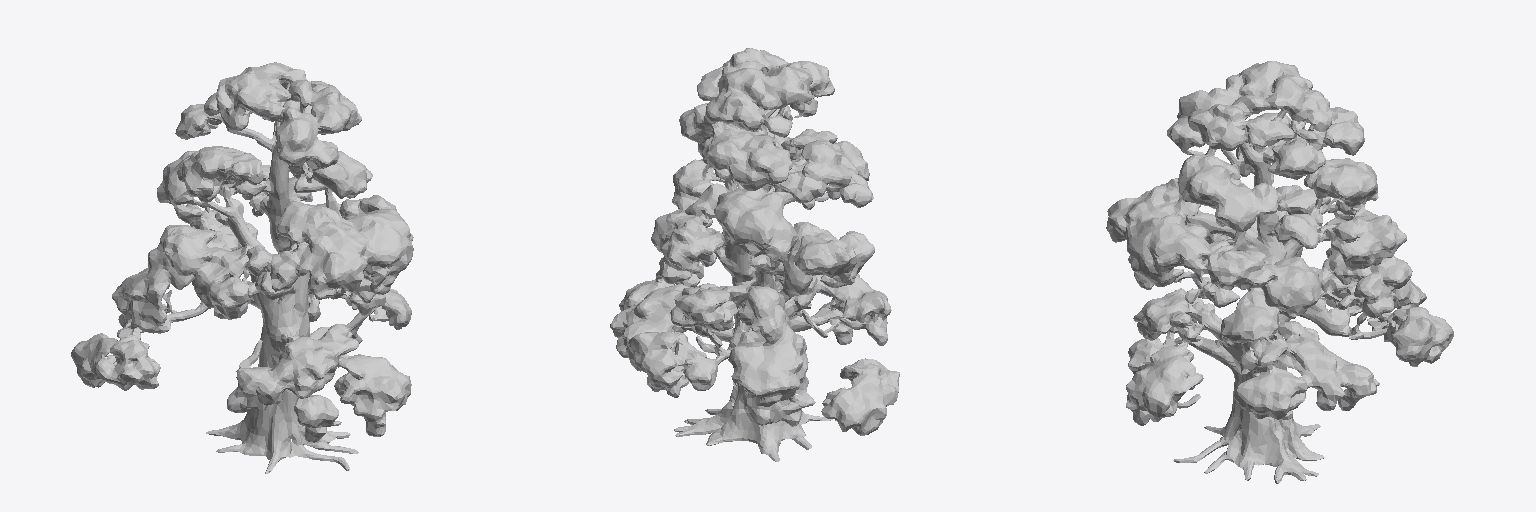
File: a_tree_model_for_an_i_0919133347_preview.obj
The picture shows the model from 3 angles: view 1: azimuth 30°, elevation 25°; view 2: azimuth 150°, elevation 25°; view 3: azimuth 270°, elevation 25°; orthographic projection.
Visible parts, largest first — view 1: Mesh1; view 2: Mesh1; view 3: Mesh1.
Part boxes in pixels (x1,y1,x2,y2): Mesh1: (71,62,413,473); Mesh1: (610,48,899,461); Mesh1: (1106,61,1453,483).
Bounding box in the file's own units: 1.62 × 1.99 × 1.66.